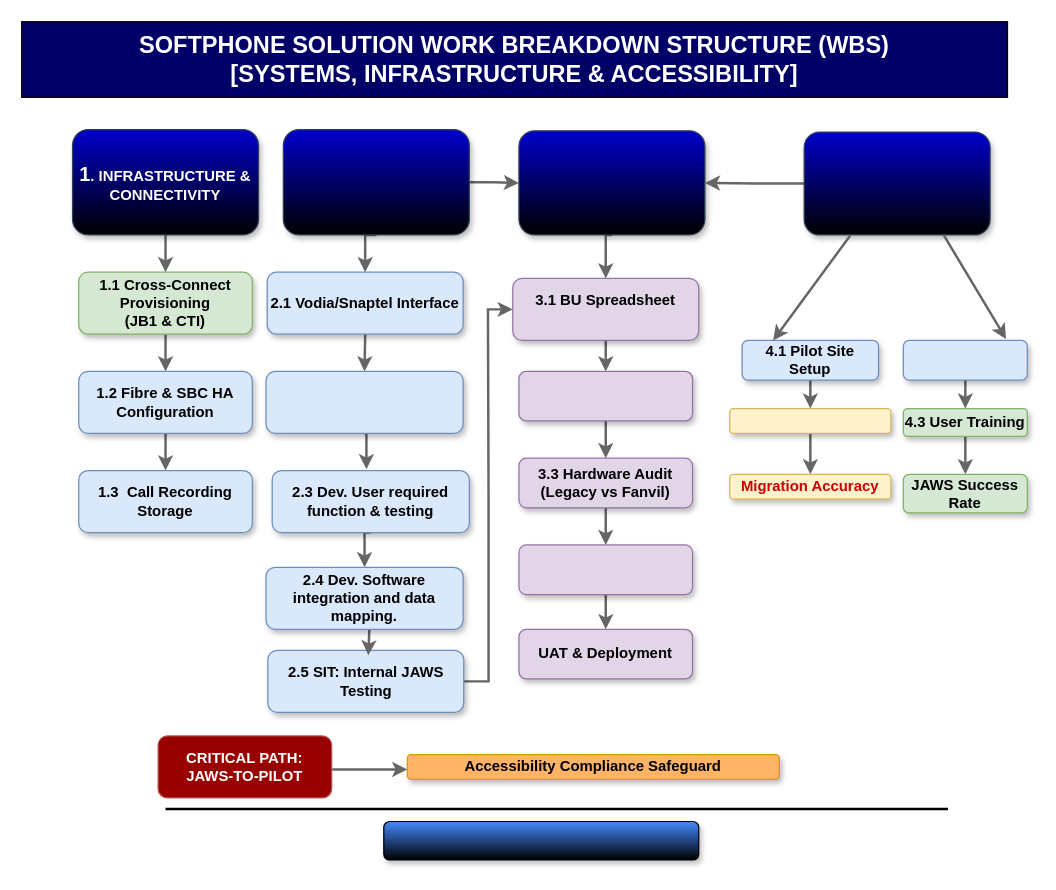
The diagram is 1056 pixels wide and 890 high, and some of its shapes have lost their labels. Each missing label, with the centre of its shape:
2 . SOFTWARE DEV & INTEGRATION: (x=377, y=183)
2.2 Finalizing Technical Scope: (x=365, y=403)
3 . DATA COLLECTION & SETUP: (x=612, y=184)
3.2 Extension & Call Flow Mapping: (x=606, y=397)
4 . IMPLEMENTATION & TRAINING: (x=898, y=185)
4.2 Technical Training: (x=966, y=361)
GO-LIVE & OPTIMIZATION: (x=542, y=842)
Regional Rollout: (x=606, y=571)
Uptime 99.99%: (x=811, y=422)
